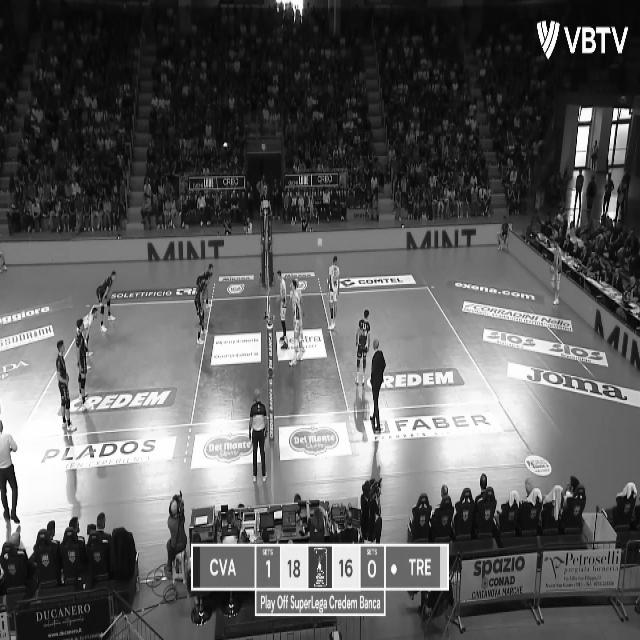volleyball court: (26, 284, 502, 436)
